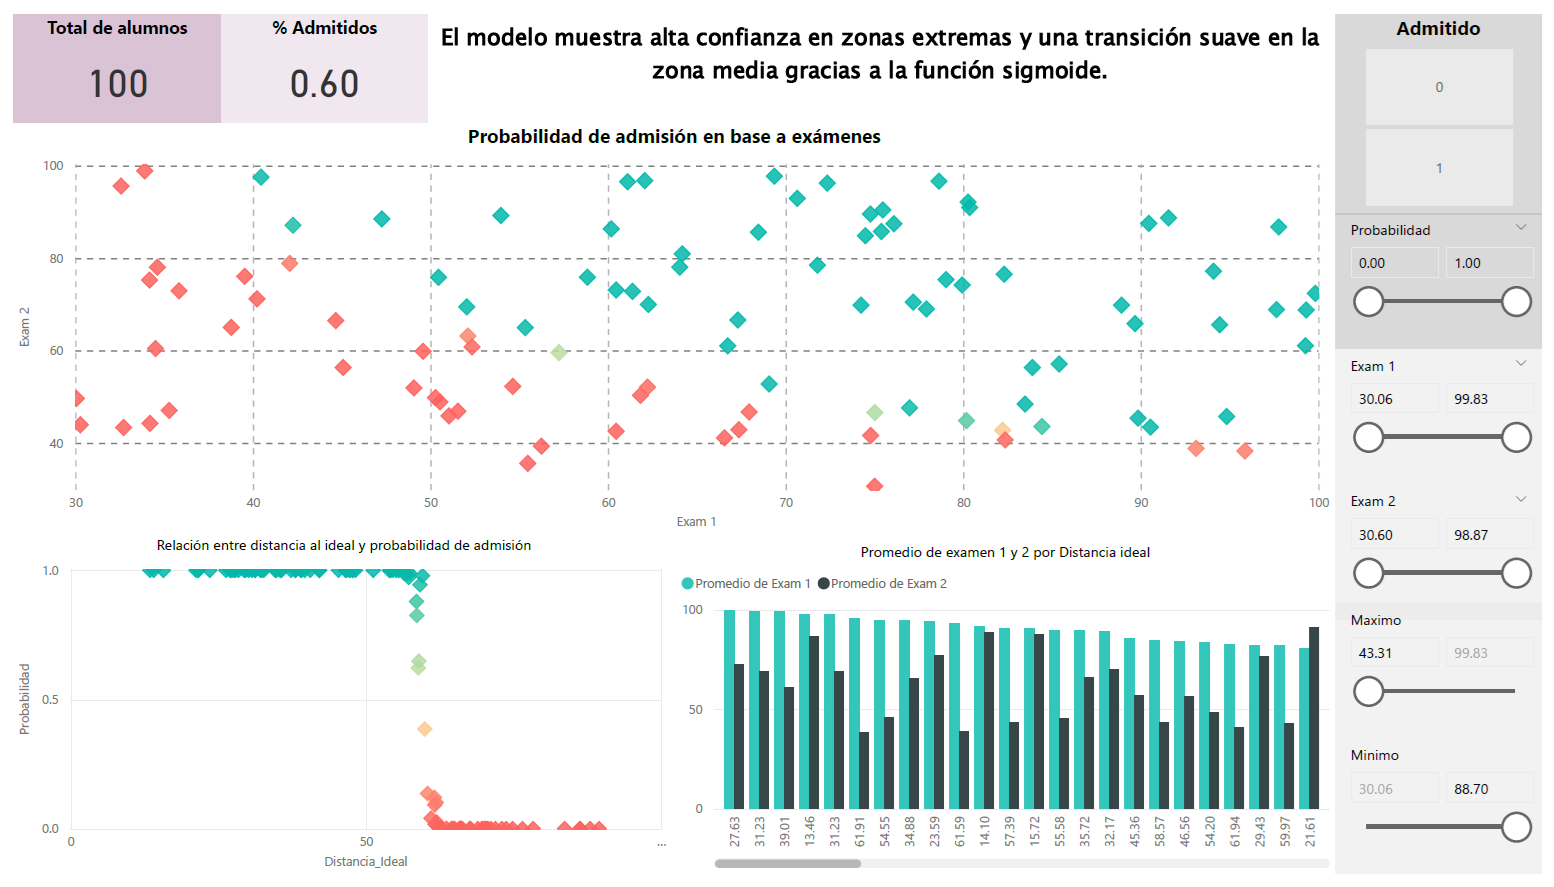

Layout of this report page (visuals, bound fields, positions):
{"tool":"powerbi","page":{"name":"Página 1","canvas":[1280,720],"ordinal":0},"visuals":[{"type":"scatterChart","title":"Probabilidad de admisión en base a exámenes","fields":{"X":["resultados_modelo.Exam 1"],"Y":["resultados_modelo.Exam 2"]},"box":[0,90,1106.7,345],"z":0},{"type":"actionButton","box":[0,0,100,40],"z":1000},{"type":"slicer","title":"Admitido","fields":{"Values":["resultados_modelo.Admitted"]},"box":[1106.7,0,173.3,166.7],"z":2000},{"type":"card","title":"Total de alumnos","fields":{"Values":["CountNonNull(resultados_modelo.Admitted)"]},"box":[0,0,173.3,90],"z":3000},{"type":"card","title":"% Admitidos","fields":{"Values":["Avg(resultados_modelo.Admitted)"]},"box":[173.3,0,173.3,90],"z":4000},{"type":"scatterChart","title":"Relación entre distancia al ideal y probabilidad de admisión","fields":{"X":["resultados_modelo.Distancia_Ideal"],"Y":["resultados_modelo.Probabilidad"]},"box":[0,435,553.3,285],"z":5000},{"type":"slicer","fields":{"Values":["resultados_modelo.Probabilidad"]},"box":[1106.7,166.7,173.3,113.3],"z":6000},{"type":"slicer","fields":{"Values":["resultados_modelo.Exam 1"]},"box":[1106.7,280,173.3,113.3],"z":7000},{"type":"slicer","fields":{"Values":["resultados_modelo.Exam 2"]},"box":[1106.7,393.3,173.3,113.3],"z":8000},{"type":"clusteredColumnChart","title":"Promedio de examen 1 y 2 por Distancia ideal","fields":{"Y":["Avg(resultados_modelo.Exam 1)","Avg(resultados_modelo.Exam 2)"],"Category":["resultados_modelo.Distancia_Ideal"]},"box":[553.3,441.7,553.3,278.3],"z":9000},{"type":"slicer","fields":{"Values":["resultados_modelo.Maximo"]},"box":[1106.7,493.3,173.3,113.3],"z":10000},{"type":"slicer","fields":{"Values":["resultados_modelo.Minimo"]},"box":[1106.7,606.7,173.3,113.3],"z":11000},{"type":"textbox","box":[346.7,0,760,83.3],"z":12000}]}

Visuals, with their boxes in screenshot pixels (x1, y1, x2, y2), scaled from the page's 1280x720 canvas onto the 1554x887 screenshot:
"Probabilidad de admisión en base a exámenes" scatterChart: (0,111,1344,536)
actionButton: (0,0,121,49)
"Admitido" slicer: (1344,0,1553,205)
"Total de alumnos" card: (0,0,210,111)
"% Admitidos" card: (210,0,421,111)
"Relación entre distancia al ideal y probabilidad de admisión" scatterChart: (0,536,672,886)
slicer - resultados_modelo.Probabilidad: (1344,205,1553,345)
slicer - resultados_modelo.Exam 1: (1344,345,1553,485)
slicer - resultados_modelo.Exam 2: (1344,485,1553,624)
"Promedio de examen 1 y 2 por Distancia ideal" clusteredColumnChart: (672,544,1343,886)
slicer - resultados_modelo.Maximo: (1344,608,1553,747)
slicer - resultados_modelo.Minimo: (1344,747,1553,886)
textbox: (421,0,1344,103)
